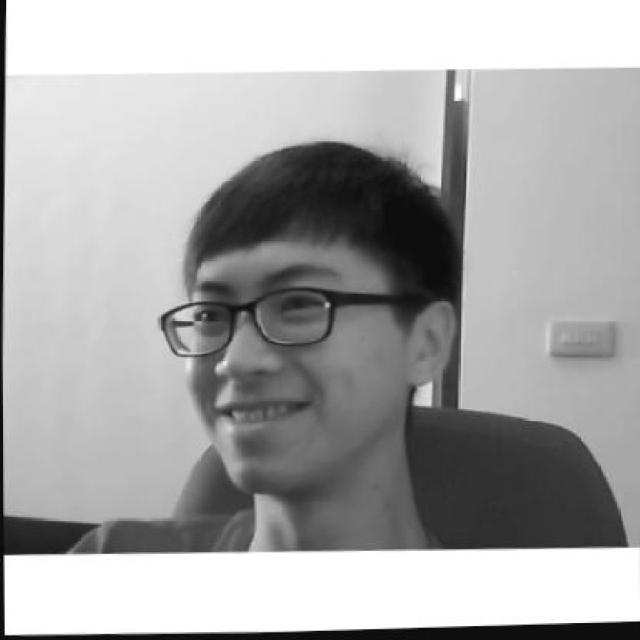attentif: (154, 138, 458, 494)
